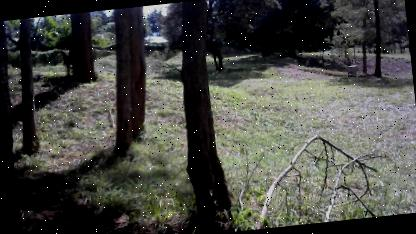tree: (162, 0, 237, 234), (98, 5, 162, 157), (319, 0, 413, 86), (4, 18, 52, 157), (63, 11, 102, 90)
